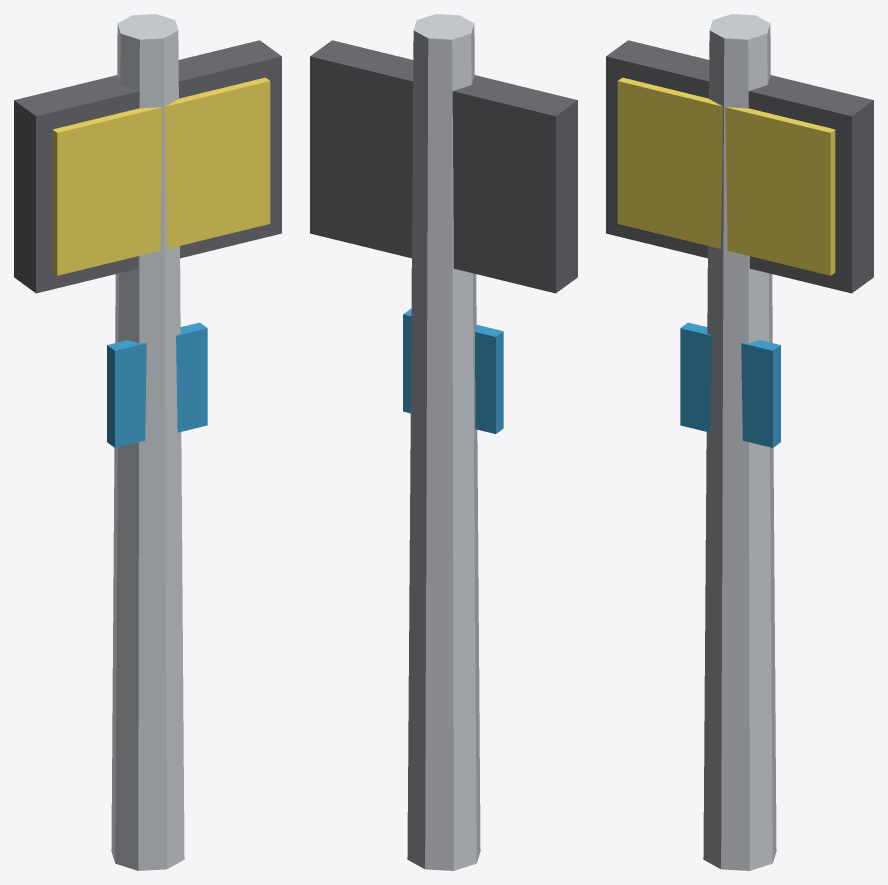
The model's file is bus-station-and-city-transit-real-time-display-pole-458f0969__34209.glb.
3 renders of one model, left to right at view 1: azimuth 30°, elevation 25°; view 2: azimuth 150°, elevation 25°; view 3: azimuth 330°, elevation 25°, orthographic.
Visible parts, largest first — view 1: real-time-display-pole-steel, real-time-display-pole-canary, real-time-display-pole-charcoal, real-time-display-pole-azure; view 2: real-time-display-pole-steel, real-time-display-pole-charcoal, real-time-display-pole-azure; view 3: real-time-display-pole-steel, real-time-display-pole-canary, real-time-display-pole-charcoal, real-time-display-pole-azure.
Part boxes in pixels (x1,y1,x2,y2): real-time-display-pole-steel: (111, 14, 184, 870); real-time-display-pole-canary: (52, 77, 270, 275); real-time-display-pole-charcoal: (14, 40, 281, 293); real-time-display-pole-azure: (107, 322, 207, 447); real-time-display-pole-steel: (407, 14, 480, 870); real-time-display-pole-charcoal: (310, 40, 577, 293); real-time-display-pole-azure: (403, 308, 503, 433); real-time-display-pole-steel: (703, 14, 776, 870); real-time-display-pole-canary: (617, 77, 835, 275); real-time-display-pole-charcoal: (606, 40, 873, 293); real-time-display-pole-azure: (680, 322, 780, 447).
Size of the model in its own units: 0.9 by 2.9 by 0.24.
